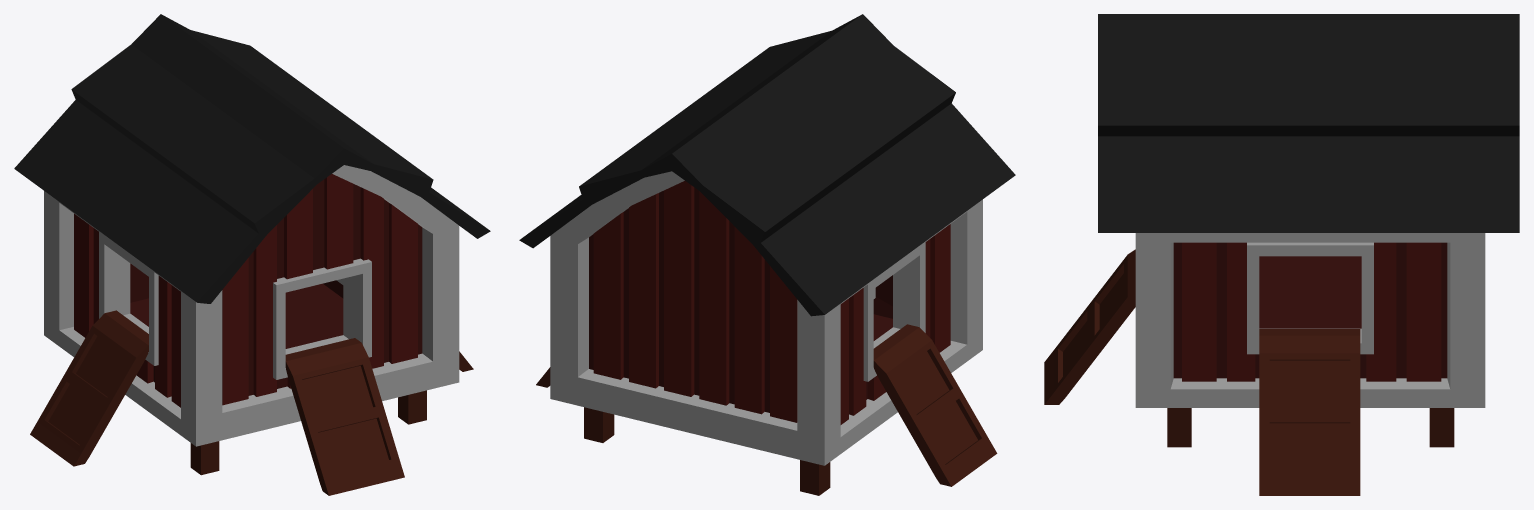
Rendered from ChickenCoop.obj.
3 views of the same model, side by side, from view 1: azimuth 30°, elevation 25°; view 2: azimuth 150°, elevation 25°; view 3: azimuth 270°, elevation 25° (orthographic). The views are drawn at different scales.
Visible parts, largest first — view 1: ChickenCoop; view 2: ChickenCoop; view 3: ChickenCoop.
Boxes of the visible parts, x1,y1,x2,y2 form: ChickenCoop: (14,14,490,495); ChickenCoop: (519,14,1015,495); ChickenCoop: (1044,14,1519,495).
Size of the model in its own units: 2.41 by 1.85 by 2.15.
